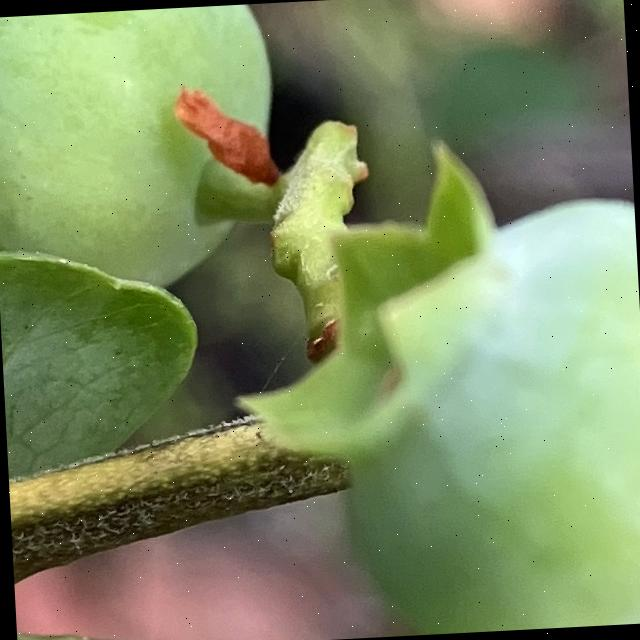Blueberries: (209, 131, 640, 640)
